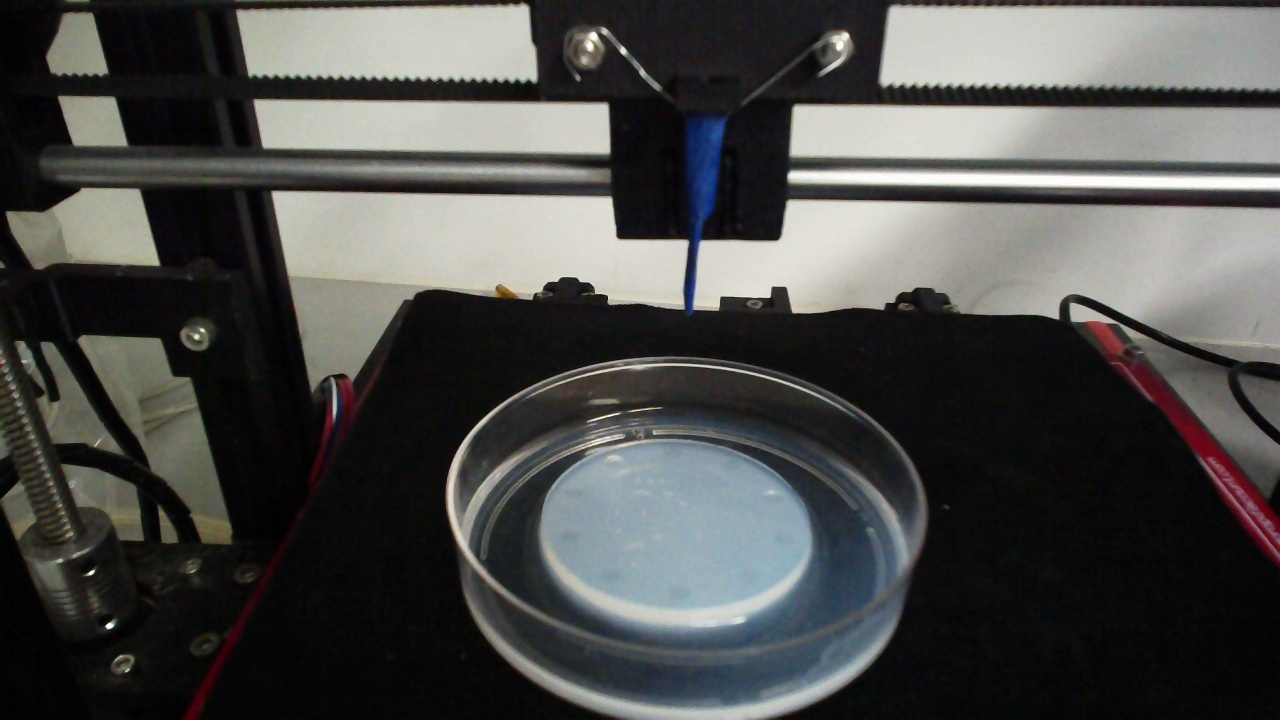groove: (559, 526, 585, 545), (735, 568, 761, 587), (598, 566, 625, 584), (666, 583, 691, 601), (761, 488, 786, 505), (772, 530, 794, 549), (562, 485, 586, 499), (663, 445, 684, 460), (717, 458, 739, 471), (604, 454, 623, 469)
needle: (683, 115, 728, 319)
